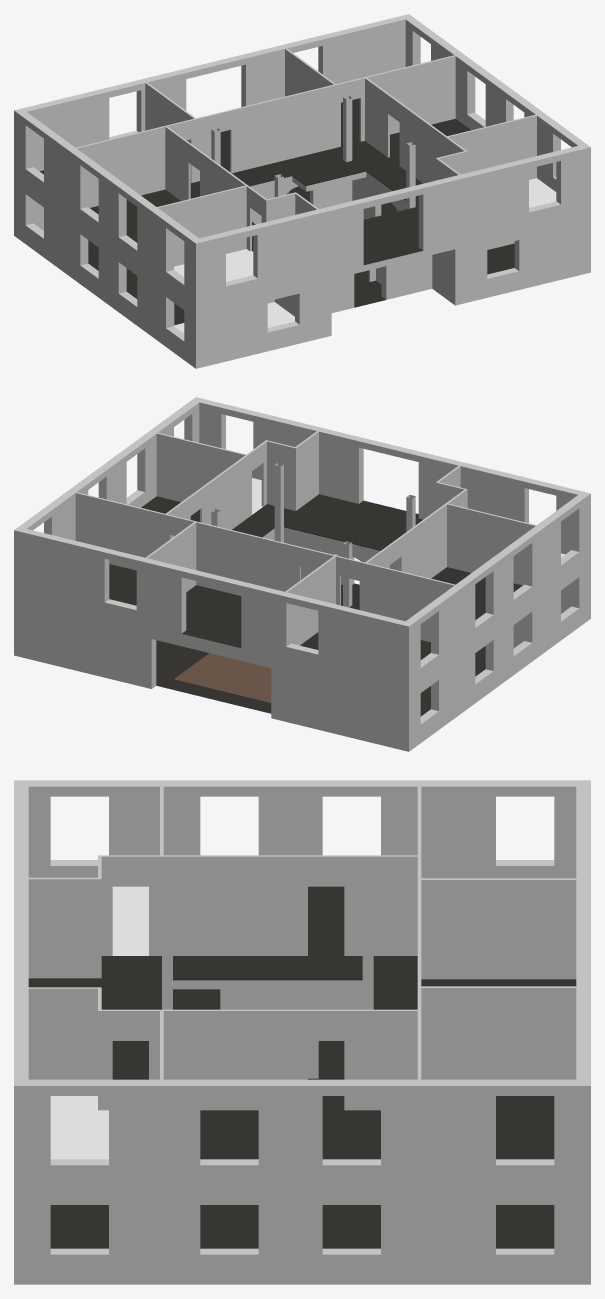
Rendered from _kademik_C.fbx.
3 renders of one model, top to bottom at view 1: azimuth 30°, elevation 25°; view 2: azimuth 150°, elevation 25°; view 3: azimuth 270°, elevation 25°, orthographic. The views are drawn at different scales.
Parts seen in each view (by area): view 1: Group2, Group3, Group1, Group4; view 2: Group2, Group3, Group1; view 3: Group2, Group3, Group1.
Part boxes in pixels (<box>): Group2: <box>14,14,590,368</box>; Group3: <box>40,98,556,281</box>; Group1: <box>88,186,514,333</box>; Group4: <box>343,95,352,161</box>; Group2: <box>14,397,590,751</box>; Group3: <box>109,478,564,659</box>; Group1: <box>156,583,485,716</box>; Group2: <box>14,780,590,1284</box>; Group3: <box>28,886,576,1159</box>; Group1: <box>50,989,554,1248</box>.
Size of the model in its own units: 19.8 by 6 by 15.8.
